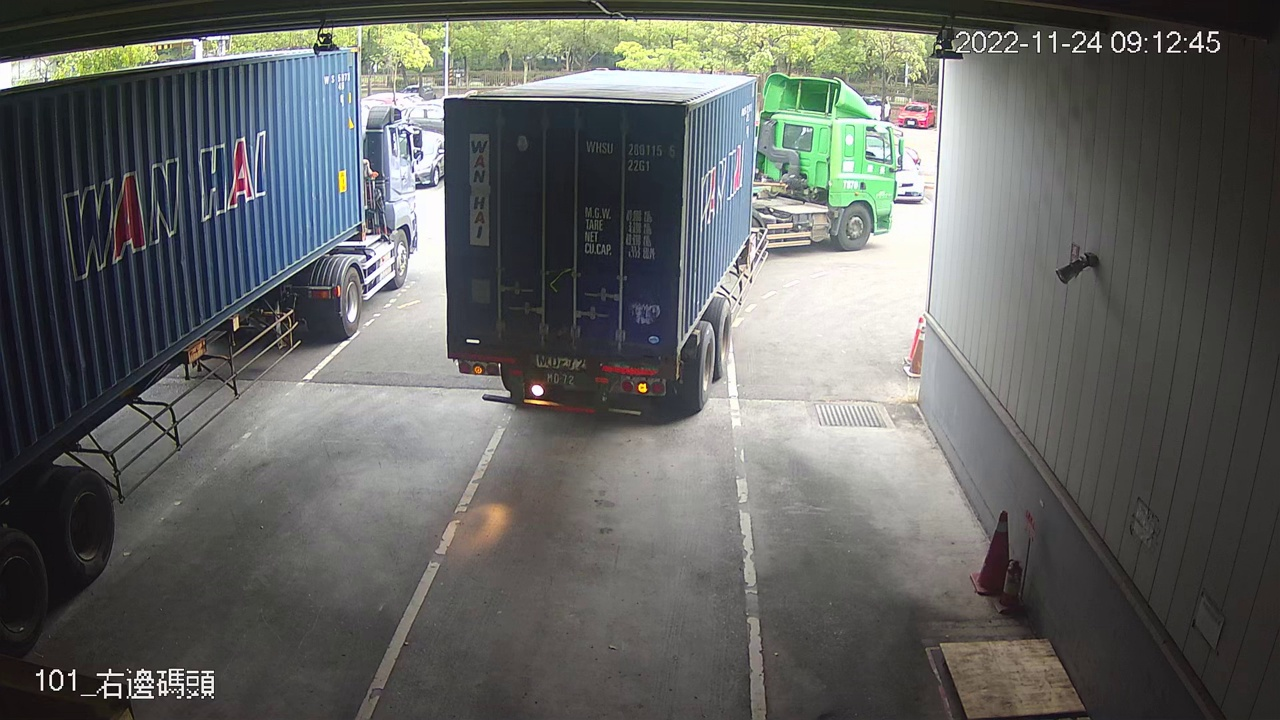container: (582, 133, 680, 178)
